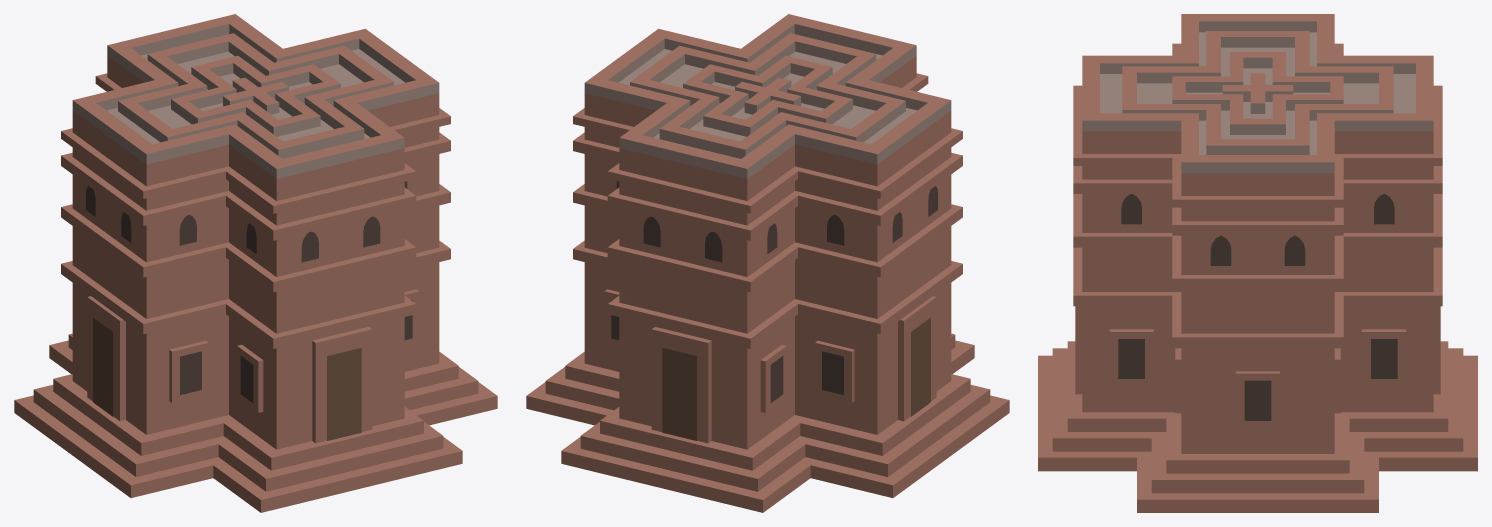
Rendered from lalibela-bete-giyorgis.glb.
3 renders of one model, left to right at view 1: azimuth 30°, elevation 25°; view 2: azimuth 150°, elevation 25°; view 3: azimuth 270°, elevation 25°, orthographic. The views are drawn at different scales.
Visible parts, largest first — view 1: lalibela-bete-giyorgis; view 2: lalibela-bete-giyorgis; view 3: lalibela-bete-giyorgis.
Boxes of the visible parts, x1,y1,x2,y2 form: lalibela-bete-giyorgis: [14, 14, 497, 512]; lalibela-bete-giyorgis: [526, 14, 1009, 512]; lalibela-bete-giyorgis: [1038, 14, 1477, 512].
Bounding box in the file's own units: 14.9 × 12.4 × 14.9.
